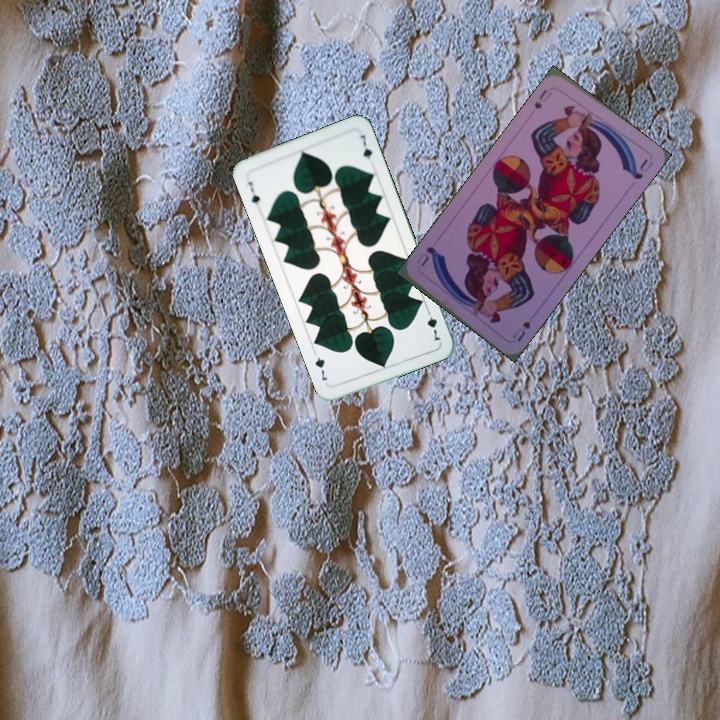G7: (423, 305, 443, 343), (244, 177, 263, 207)
SU: (508, 317, 533, 344), (530, 85, 554, 112)
